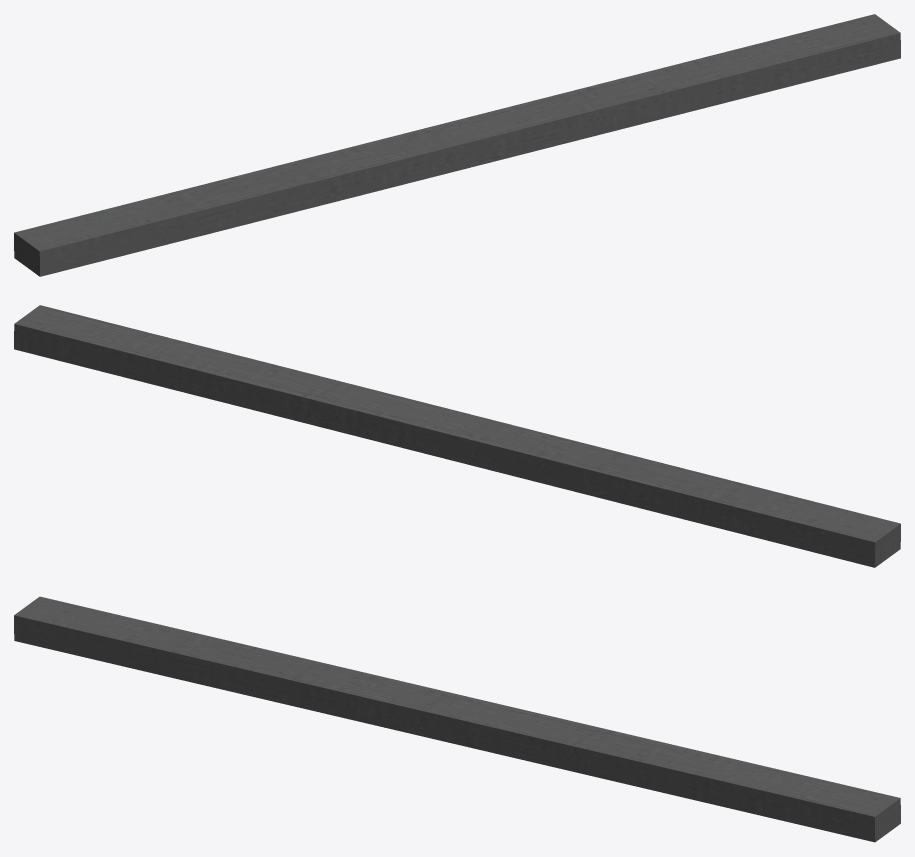
File: frame__side_rail_1.glb
3 renders of one model, top to bottom at view 1: azimuth 30°, elevation 25°; view 2: azimuth 150°, elevation 25°; view 3: azimuth 330°, elevation 25°, orthographic.
Visible parts, largest first — view 1: world; view 2: world; view 3: world.
Part boxes in pixels (x1,y1,x2,y2): world: (14, 14, 900, 276); world: (14, 305, 900, 567); world: (14, 596, 900, 842).
Size of the model in its own units: 1.06 by 0.04 by 0.055.
Materials: 1 (1 with a texture image).
